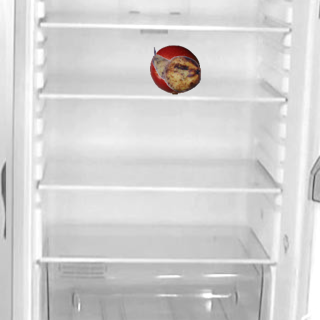Apple Braeburn: (149, 44, 199, 94)
Pear Abate: (151, 44, 201, 94)
